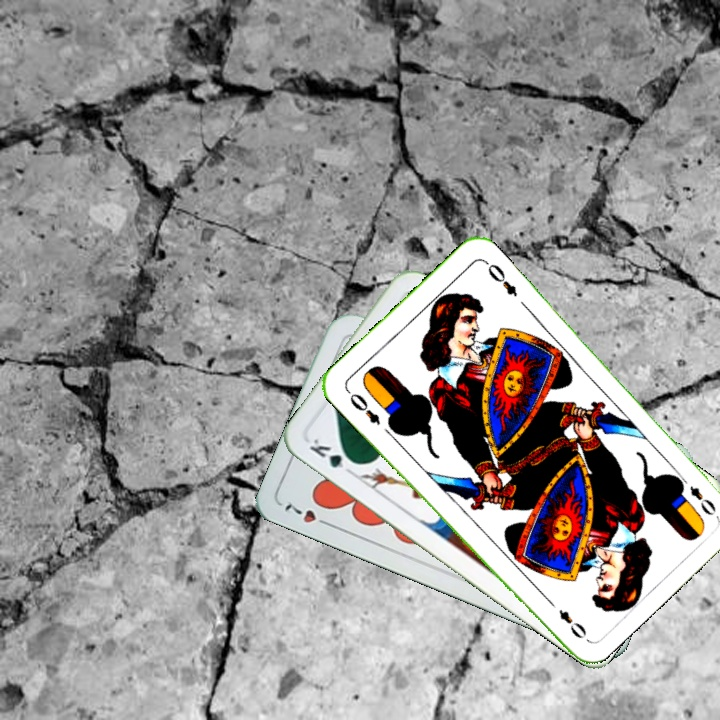EO: (673, 471, 719, 519), (343, 386, 383, 428)
GK: (305, 434, 360, 472)
H7: (280, 499, 335, 530)
